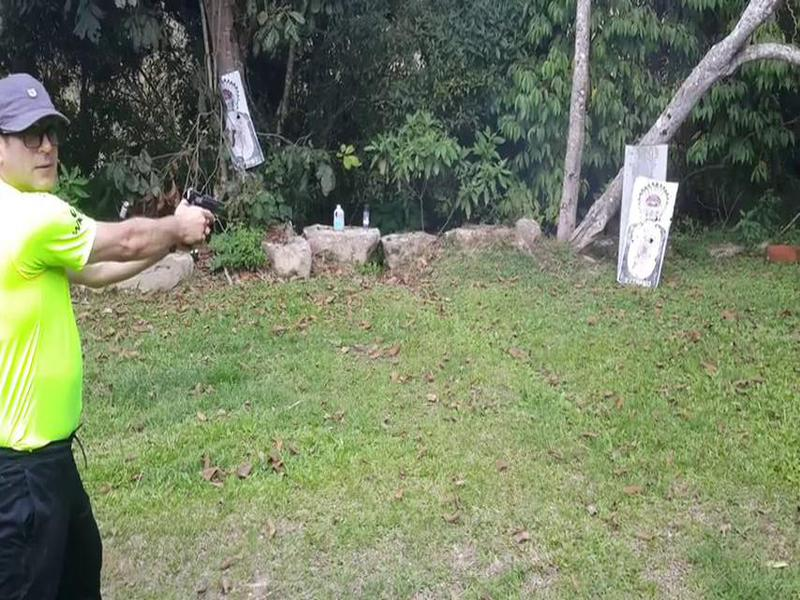Pistola: (158, 175, 234, 238)
